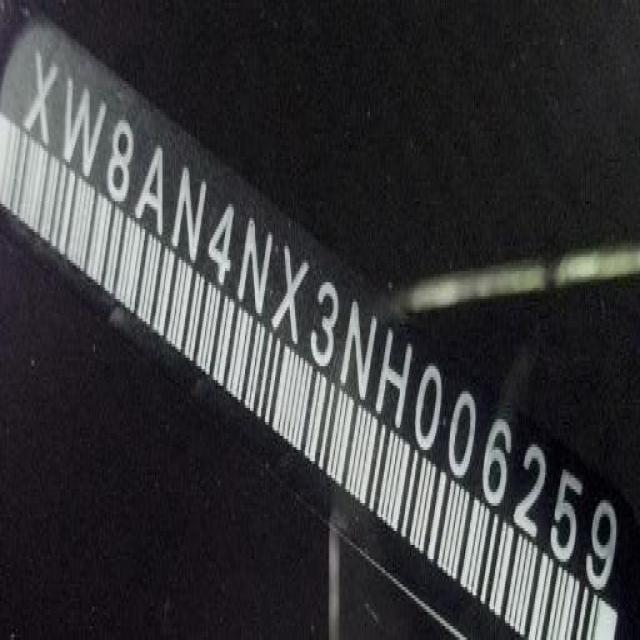0: (441, 378, 485, 492), (409, 354, 450, 464)
2: (506, 429, 554, 547)
3: (310, 284, 339, 369)
4: (207, 201, 236, 287)
5: (544, 458, 593, 574)
6: (474, 398, 520, 514)
8: (98, 107, 140, 210)
9: (580, 490, 627, 608)
A: (132, 129, 174, 239)
H: (370, 312, 421, 434)
N: (163, 153, 214, 268), (340, 297, 377, 400), (238, 212, 272, 320)
W: (54, 62, 109, 180)
X: (17, 39, 65, 152), (270, 235, 314, 351)
